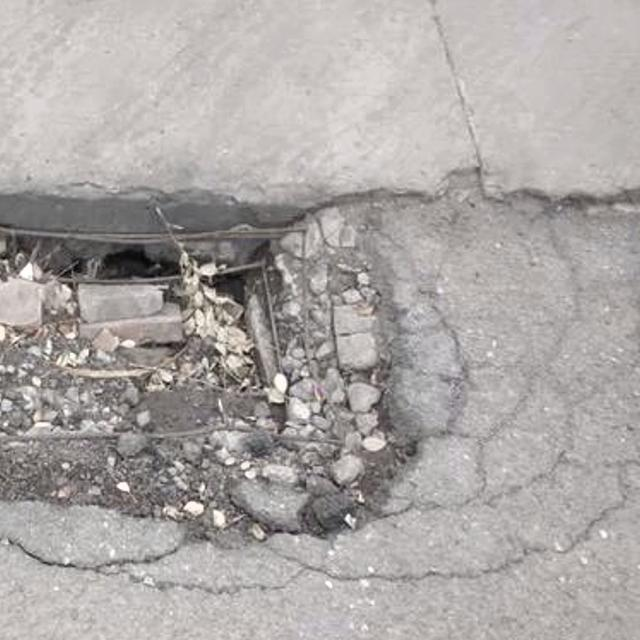broke: (0, 99, 489, 622)
